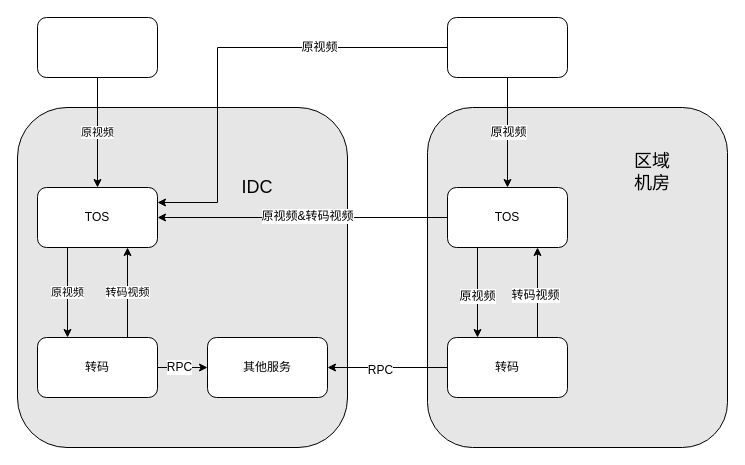
Image size: 745x465. Some labels were removed from this diagram. Each missing label, with the centre of its shape:
中心机房上传: the point at 97,47
边缘上传: the point at 507,47
